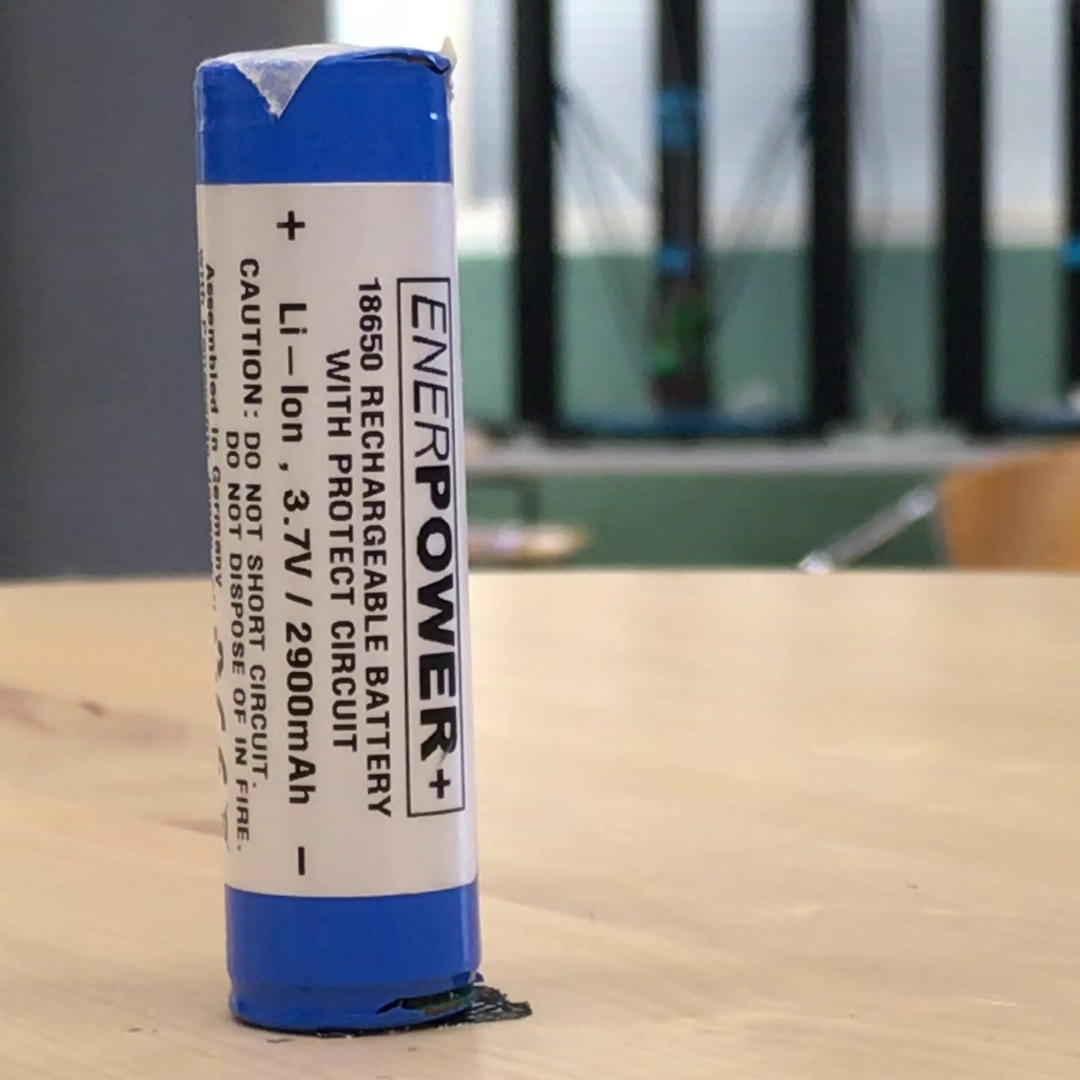keyword: (273, 479, 322, 585)
